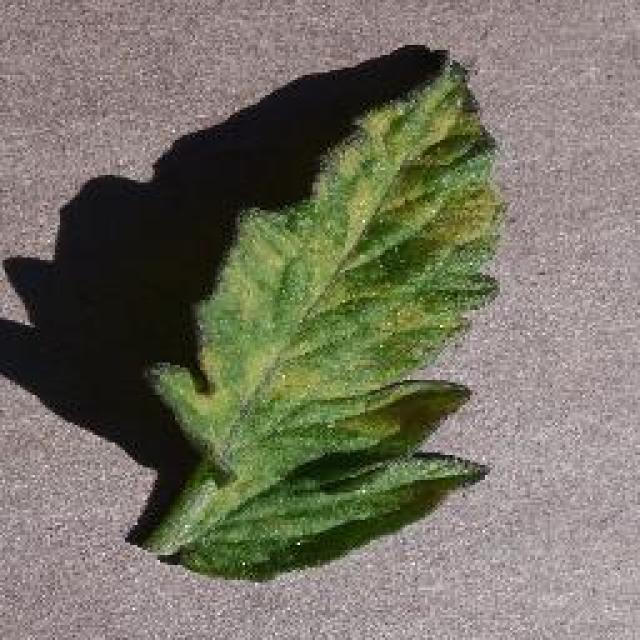green waste: (97, 36, 522, 596)
